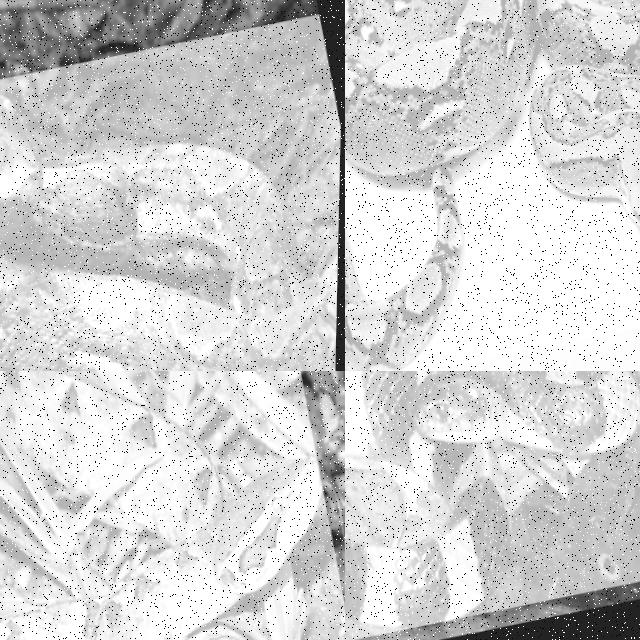Bungarus fasciatus: (345, 371, 639, 627)
Calloselasma rhodostoma: (0, 371, 321, 639)
Malayopython reticulatus: (345, 0, 639, 370), (0, 97, 336, 370)
